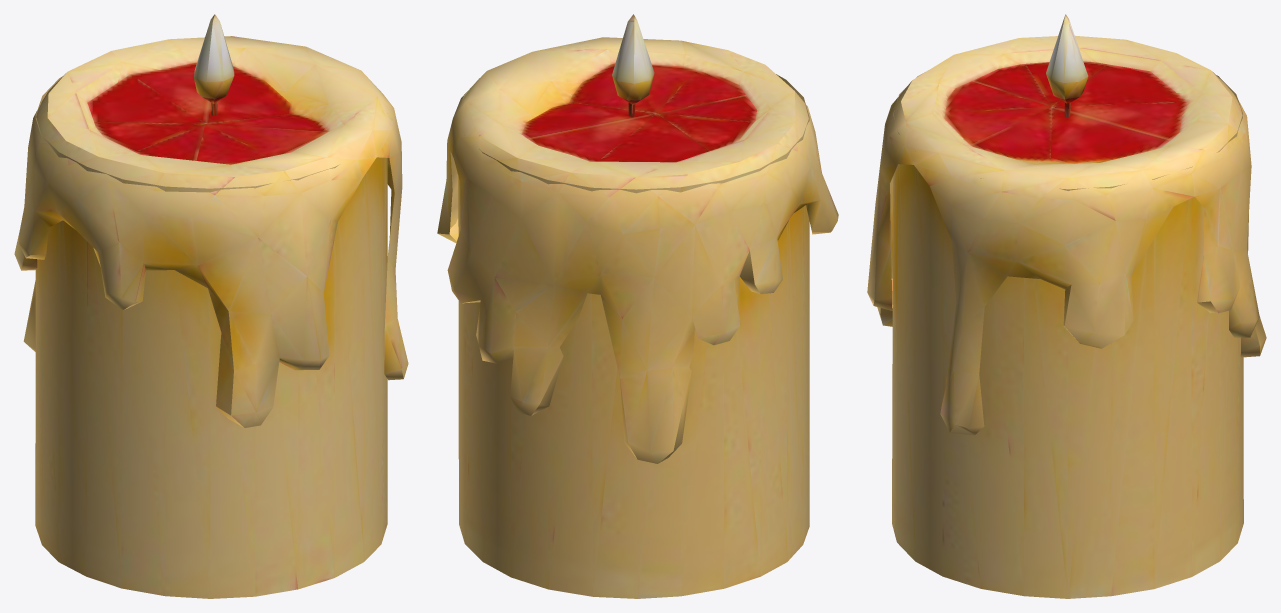
Rendered from candle.glb.
The picture shows the model from 3 angles, left to right: view 1: azimuth 30°, elevation 25°; view 2: azimuth 150°, elevation 25°; view 3: azimuth 270°, elevation 25°; orthographic projection.
Parts seen in each view (by area): view 1: Mesh_0; view 2: Mesh_0; view 3: Mesh_0.
Boxes of the visible parts, x1=… form: Mesh_0: x1=14, y1=14, x2=408, y2=598; Mesh_0: x1=437, y1=14, x2=838, y2=598; Mesh_0: x1=867, y1=14, x2=1266, y2=598.
Size of the model in its own units: 12.37 by 17.5 by 12.39.
1 material, 1 textured.
